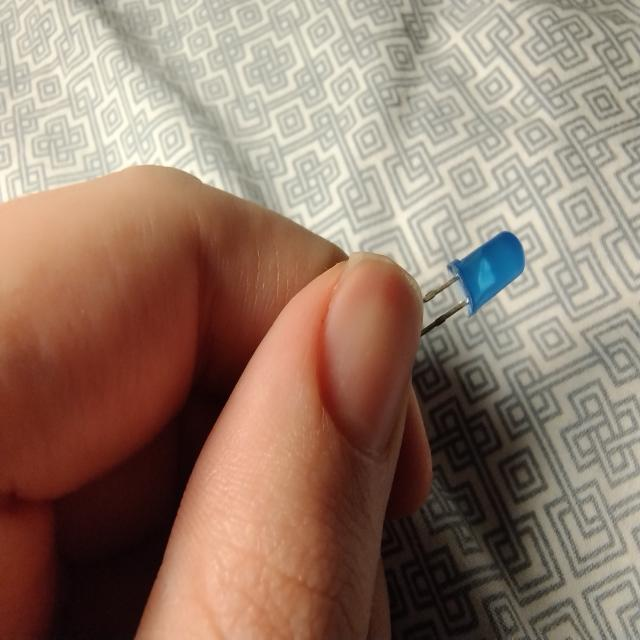blue_led: (419, 228, 526, 338)
